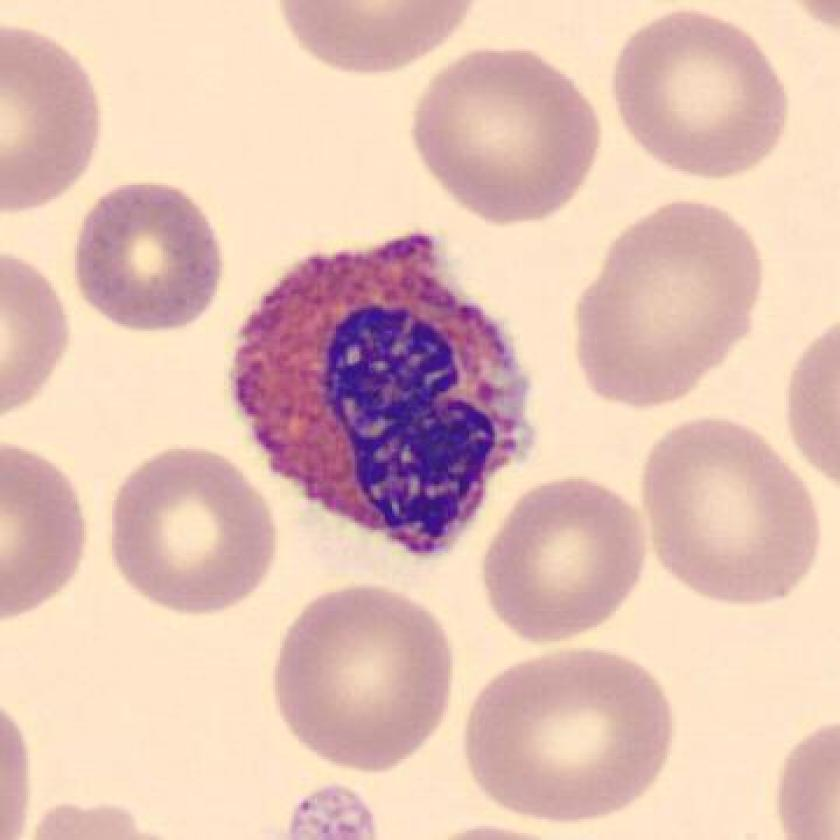eosinophil: (216, 223, 552, 570)
